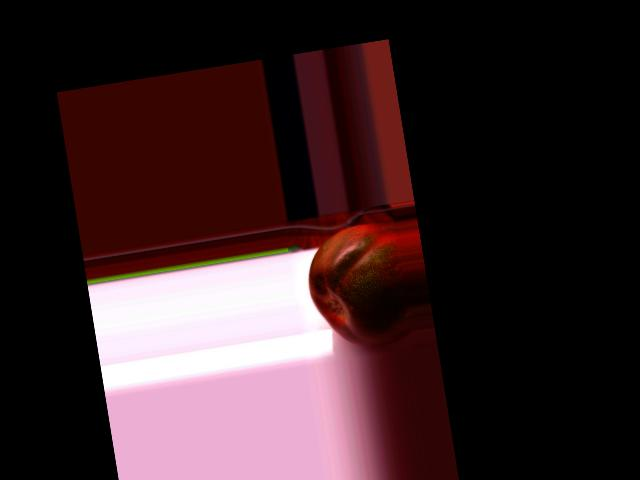tomato: (300, 218, 413, 354)
